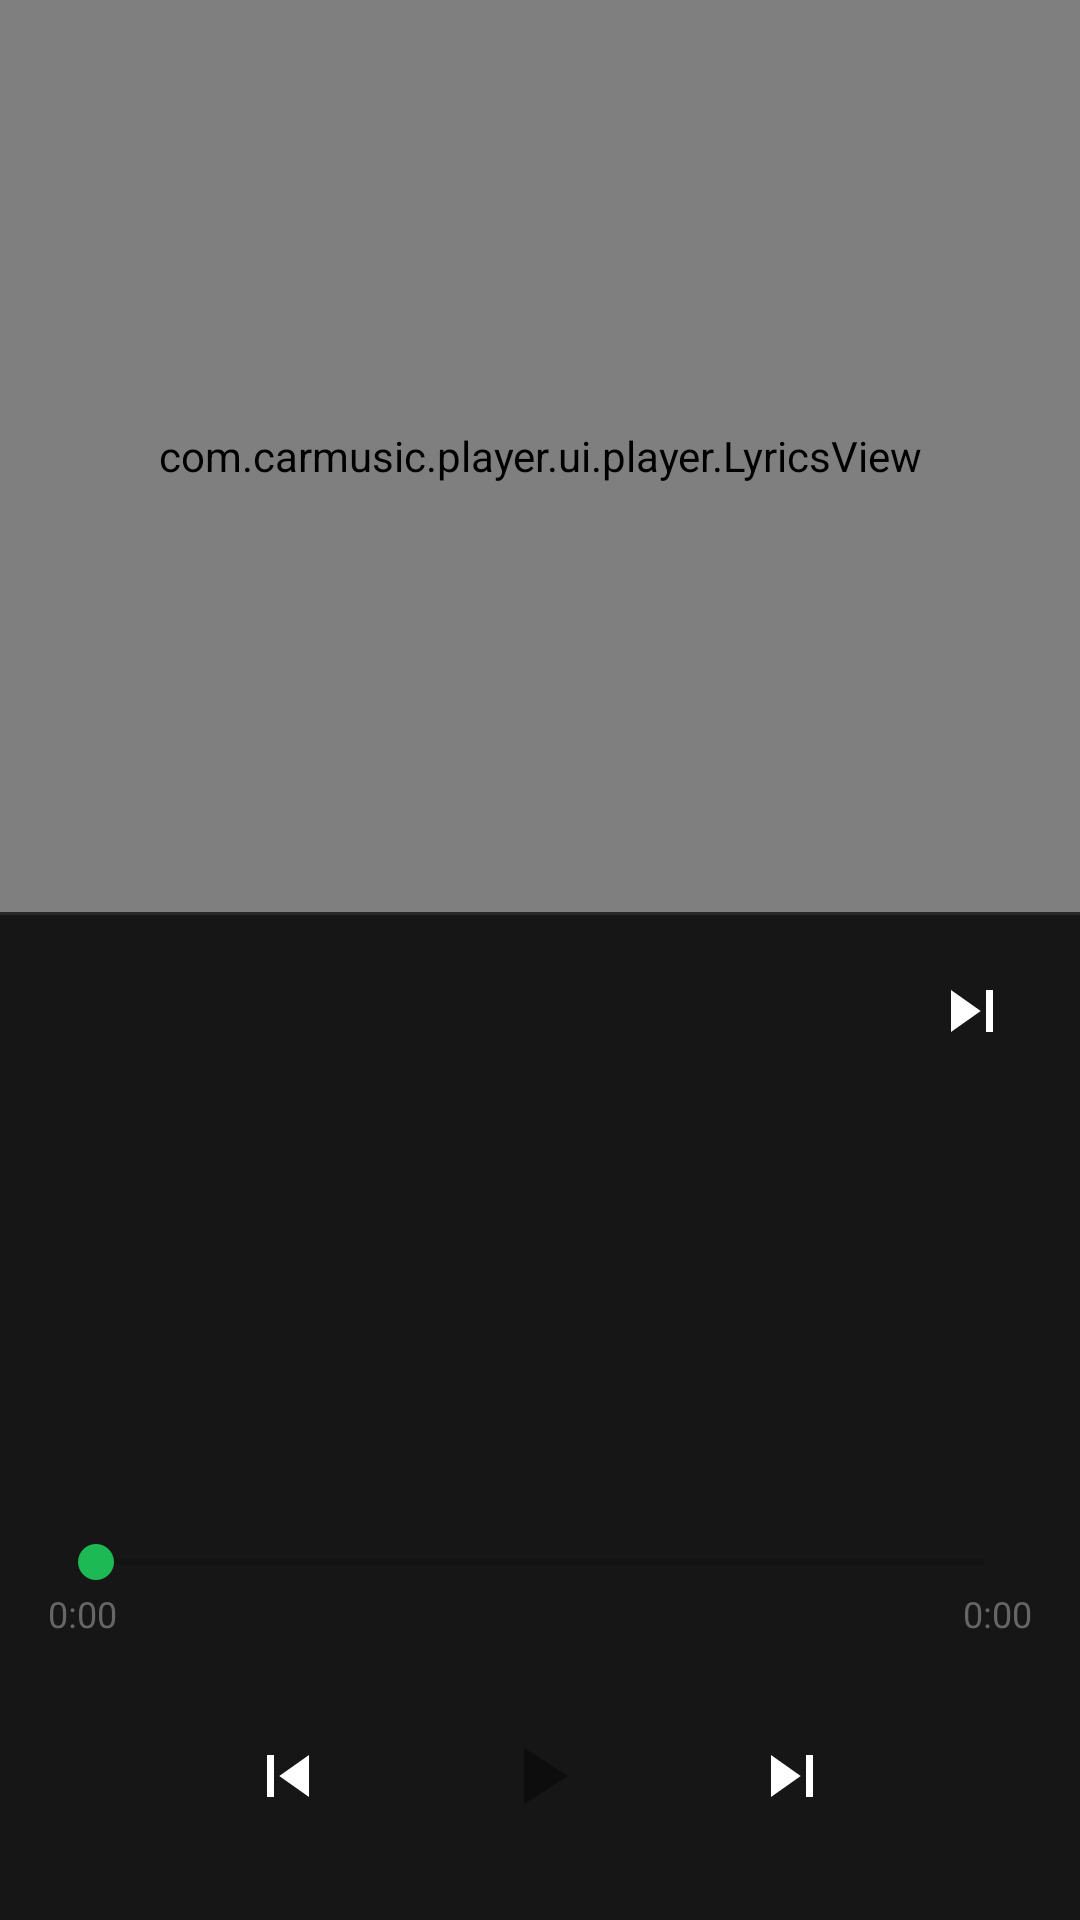

Where to tap for icons on this 1080*1920 app screen, as [x,y]:
上一首: [288,1776]
下一首: [792,1776]
